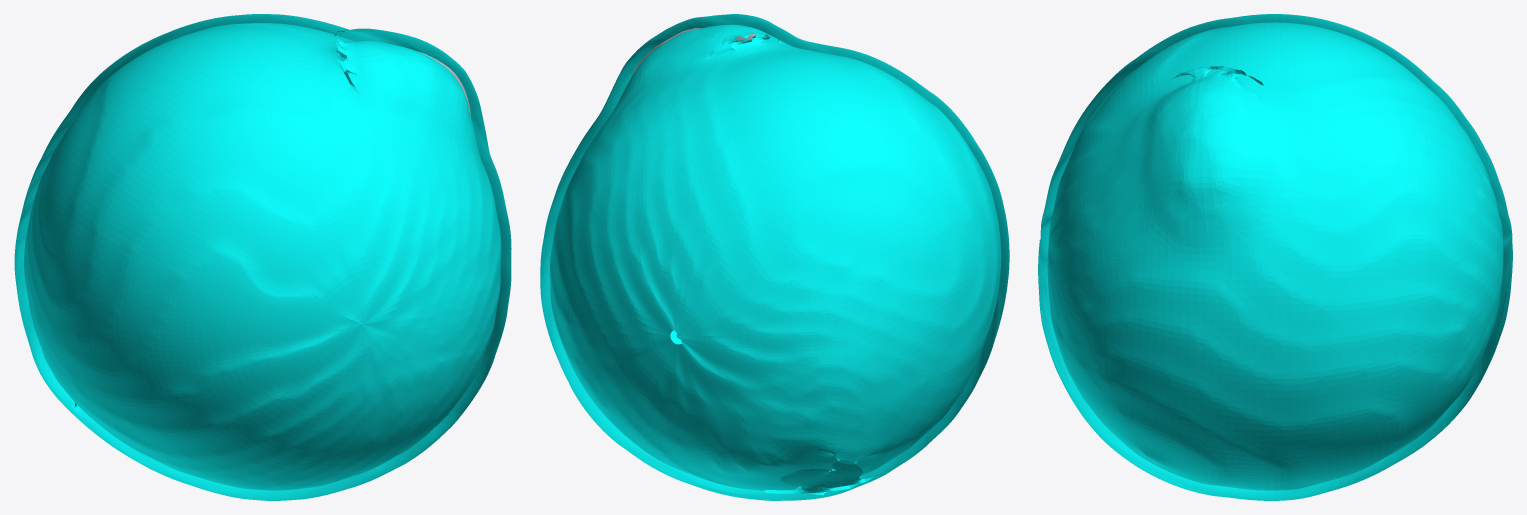
3 views of the same model, side by side, from view 1: azimuth 30°, elevation 25°; view 2: azimuth 150°, elevation 25°; view 3: azimuth 270°, elevation 25° (orthographic). The views are drawn at different scales.
Visible parts, largest first — view 1: Renderer Node; view 2: Renderer Node; view 3: Renderer Node.
Part boxes in pixels (left/top/right/bottom): Renderer Node: left=14, top=14, right=511, bottom=500; Renderer Node: left=540, top=14, right=1009, bottom=500; Renderer Node: left=1038, top=14, right=1512, bottom=500.
Size of the model in its own units: 1.38e+14 by 1.41e+14 by 1.37e+14.
